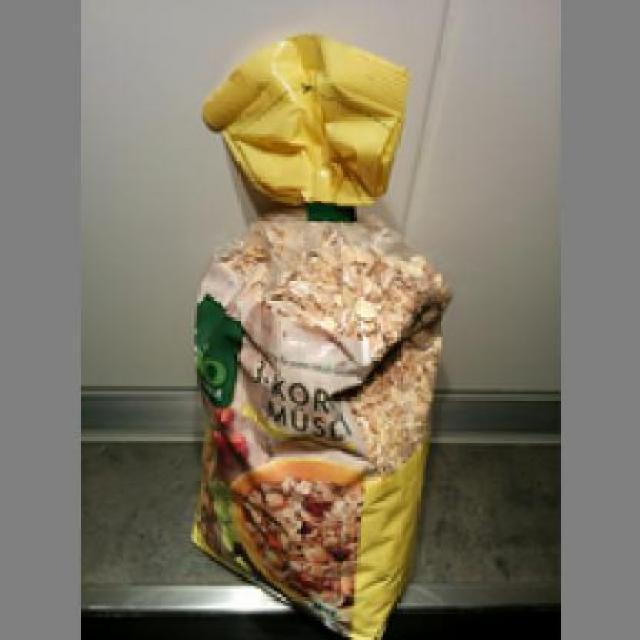Cereal: (188, 200, 452, 637)
